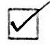ticked: (0, 0, 50, 50)
